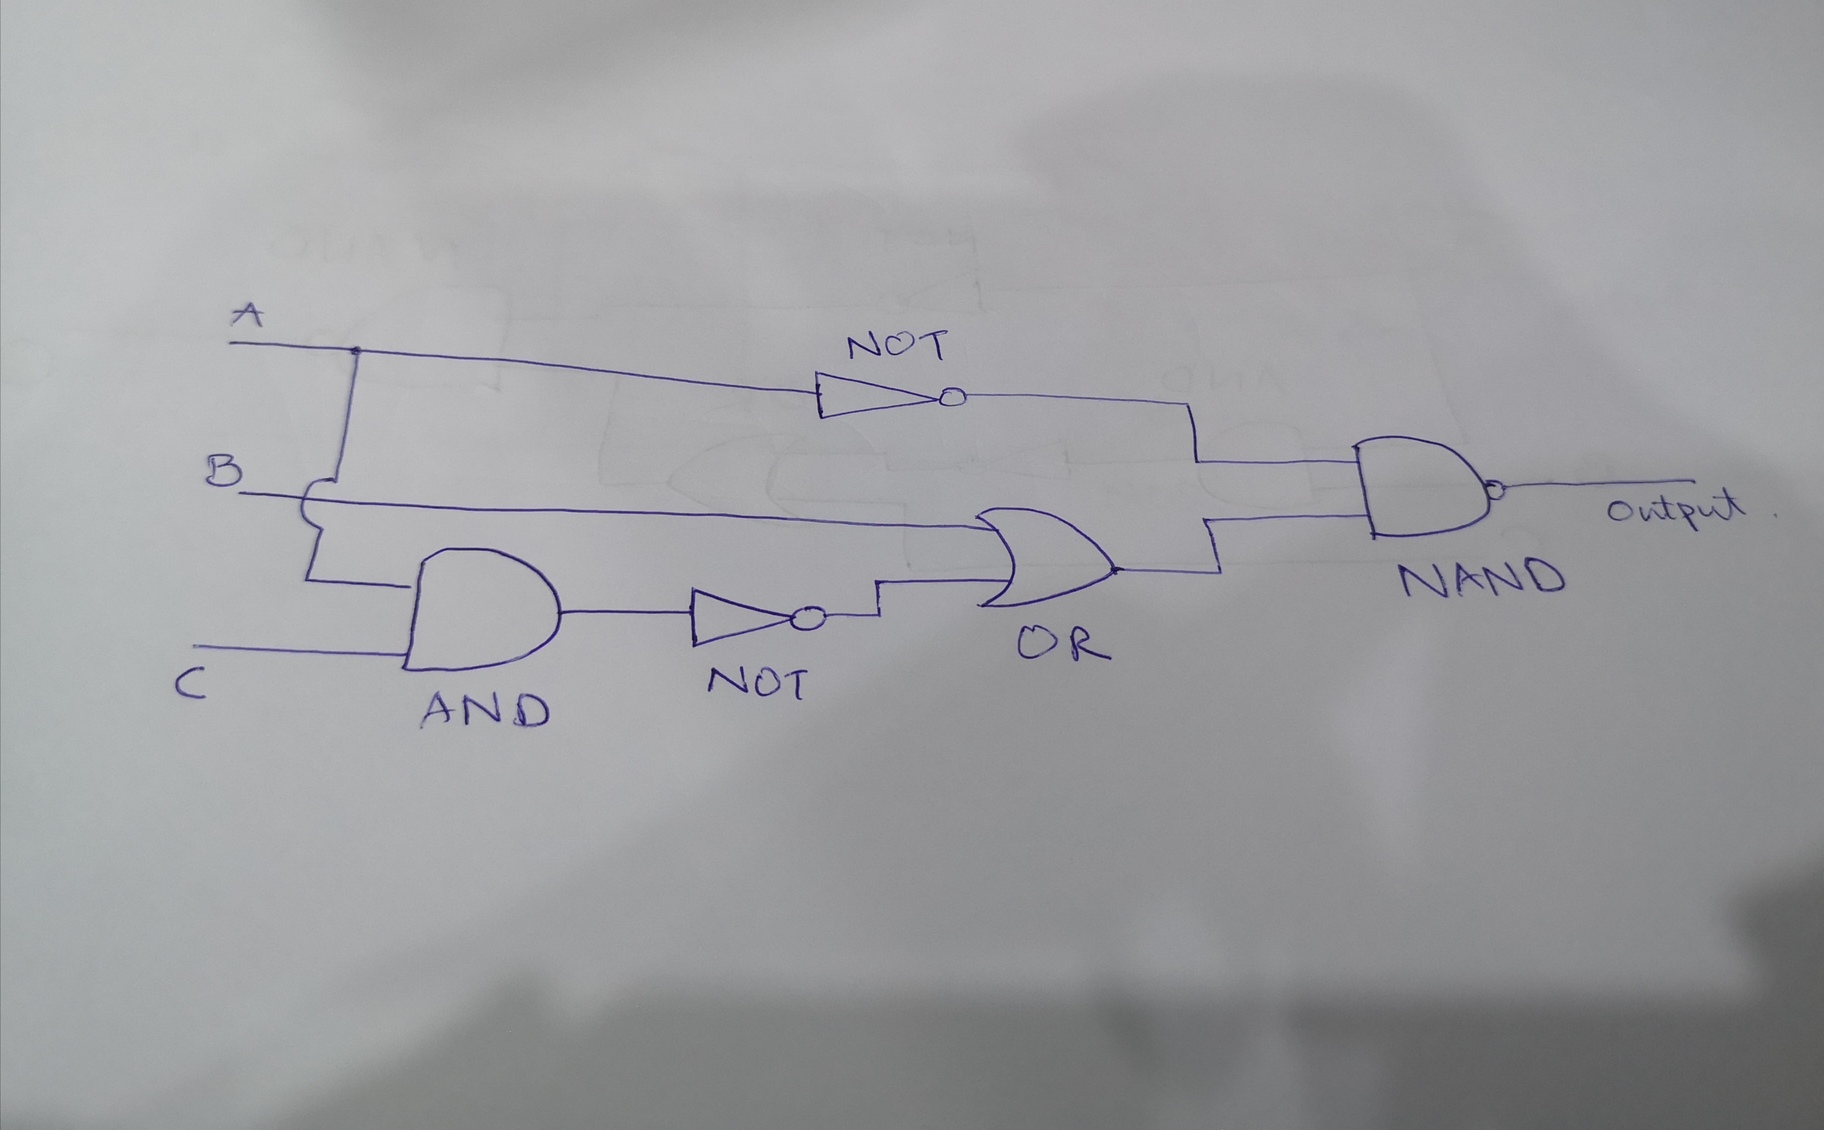and: (395, 537, 571, 679)
crossover: (294, 469, 339, 534)
junction: (343, 339, 367, 364), (297, 568, 321, 588), (1176, 395, 1197, 414), (1193, 514, 1216, 532), (1206, 564, 1229, 581), (1186, 452, 1205, 469), (868, 573, 885, 588), (872, 607, 886, 623)
nand: (1346, 425, 1518, 547)
not: (680, 584, 836, 650), (809, 366, 972, 424)
or: (968, 498, 1130, 614)
terminal: (1679, 471, 1702, 490), (231, 485, 251, 504), (186, 637, 205, 653), (223, 335, 240, 351)
text: (1398, 553, 1569, 603), (1603, 482, 1751, 540), (420, 687, 554, 734), (1010, 619, 1117, 669), (705, 657, 812, 706), (843, 325, 955, 368), (197, 446, 248, 490), (171, 657, 208, 699), (225, 298, 264, 331)
